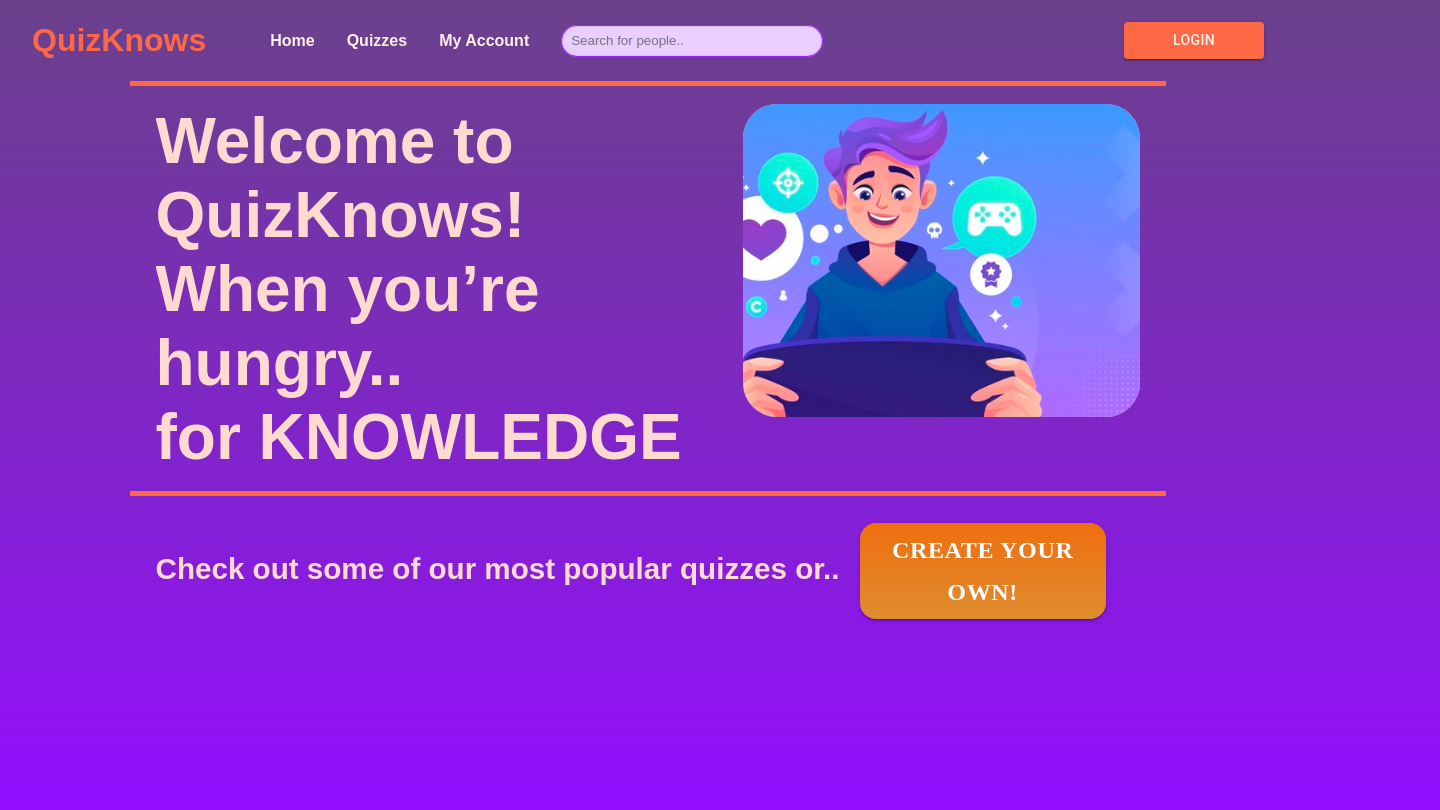
Test: <NavBar /> › Clicking Login changes pages › loads email
Click the link "Login" at (1194, 41), box [1124,22,1264,59]
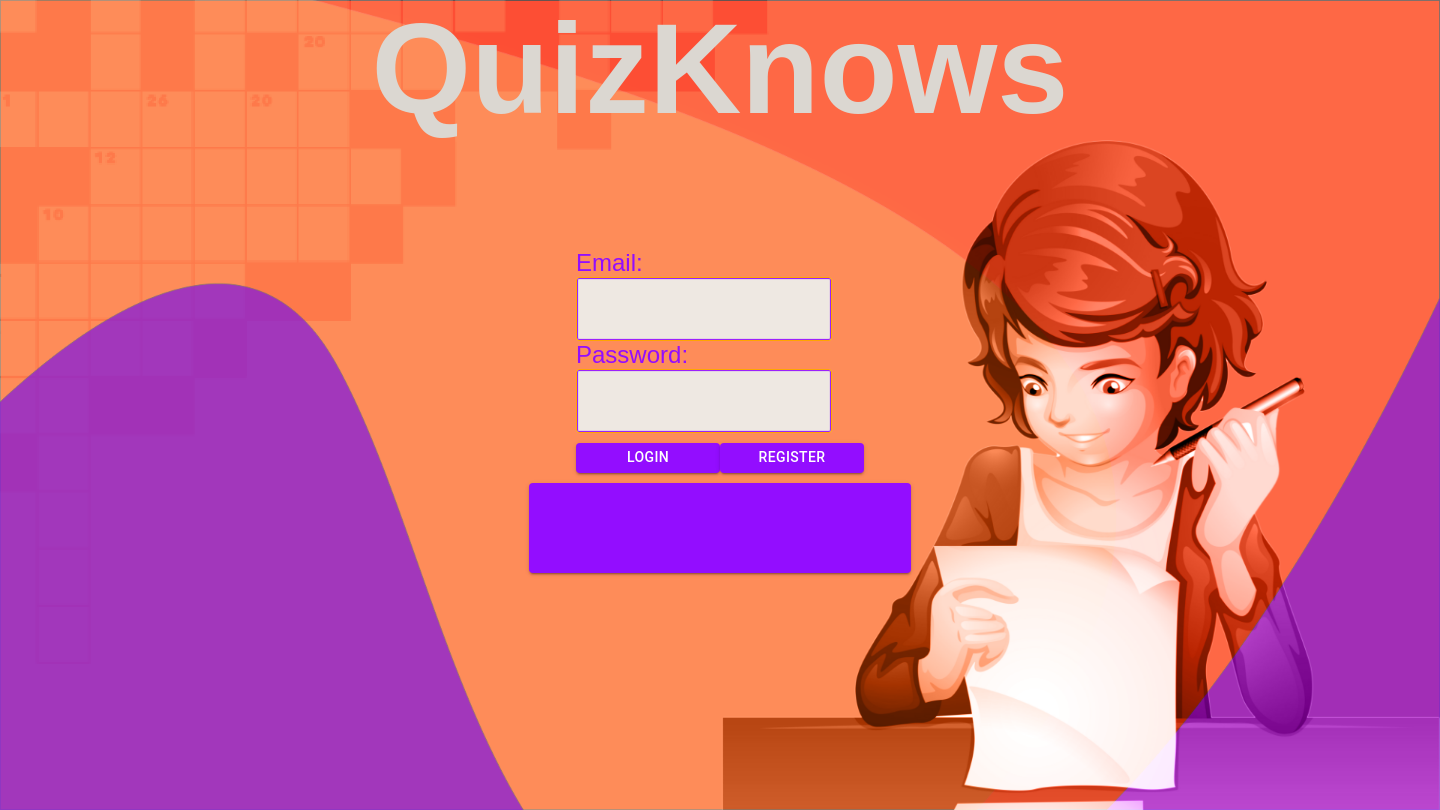
Now the text "Email:" is shown, box [576,249,643,276]
